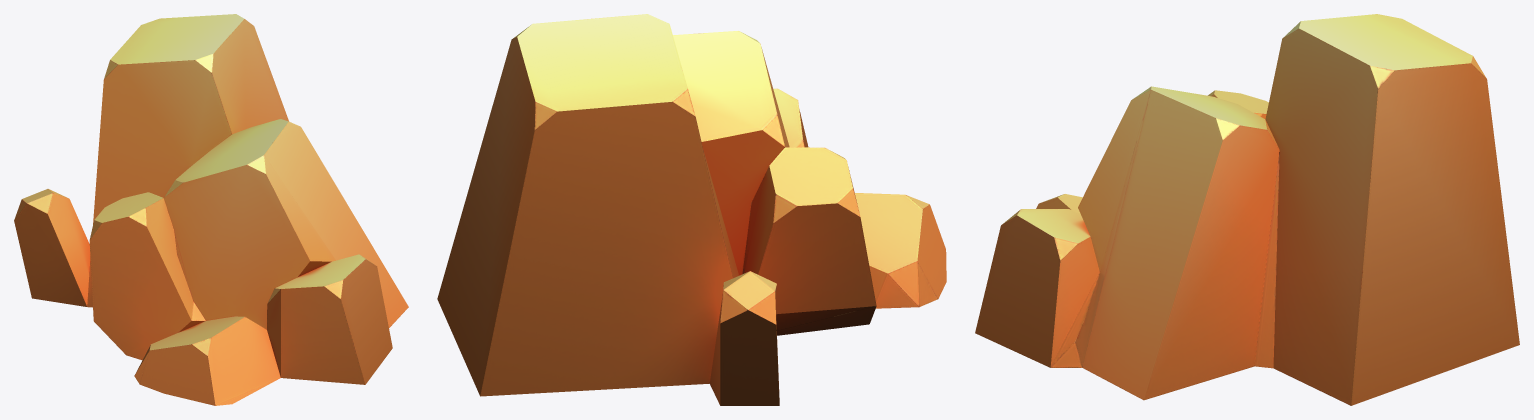
The model's file is rockTextured.glb.
The picture shows the model from 3 angles, left to right: view 1: azimuth 30°, elevation 25°; view 2: azimuth 150°, elevation 25°; view 3: azimuth 270°, elevation 25°; orthographic projection. The views are drawn at different scales.
Visible parts, largest first — view 1: RockSmall; view 2: RockSmall; view 3: RockSmall.
Part boxes in pixels (box(x1,y1,x2,y2)): RockSmall: box(14, 14, 408, 405); RockSmall: box(437, 14, 946, 405); RockSmall: box(975, 14, 1519, 405).
Size of the model in its own units: 1.24 by 0.9781 by 1.65.
1 material, 1 textured.
